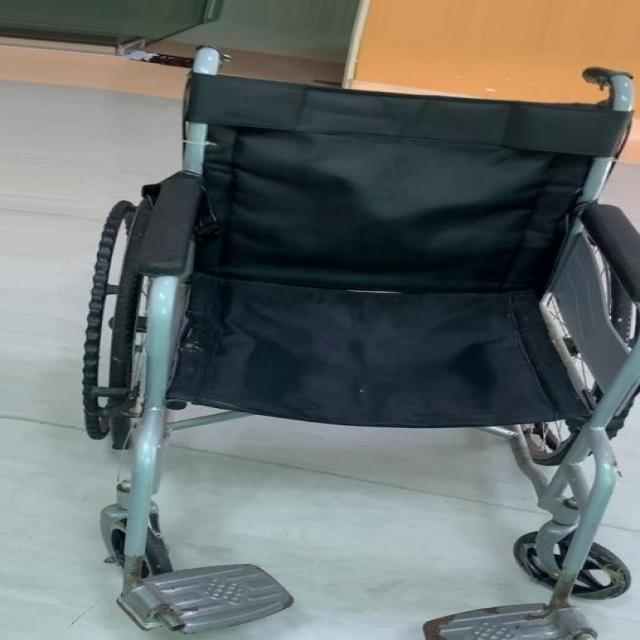wheelchair: (76, 30, 640, 640)
